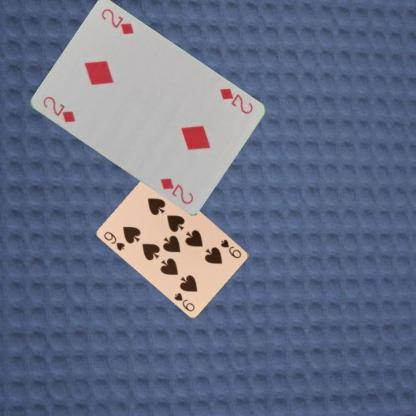2d: (217, 86, 254, 116), (40, 94, 76, 124)
9s: (218, 236, 243, 260), (102, 229, 126, 252)
